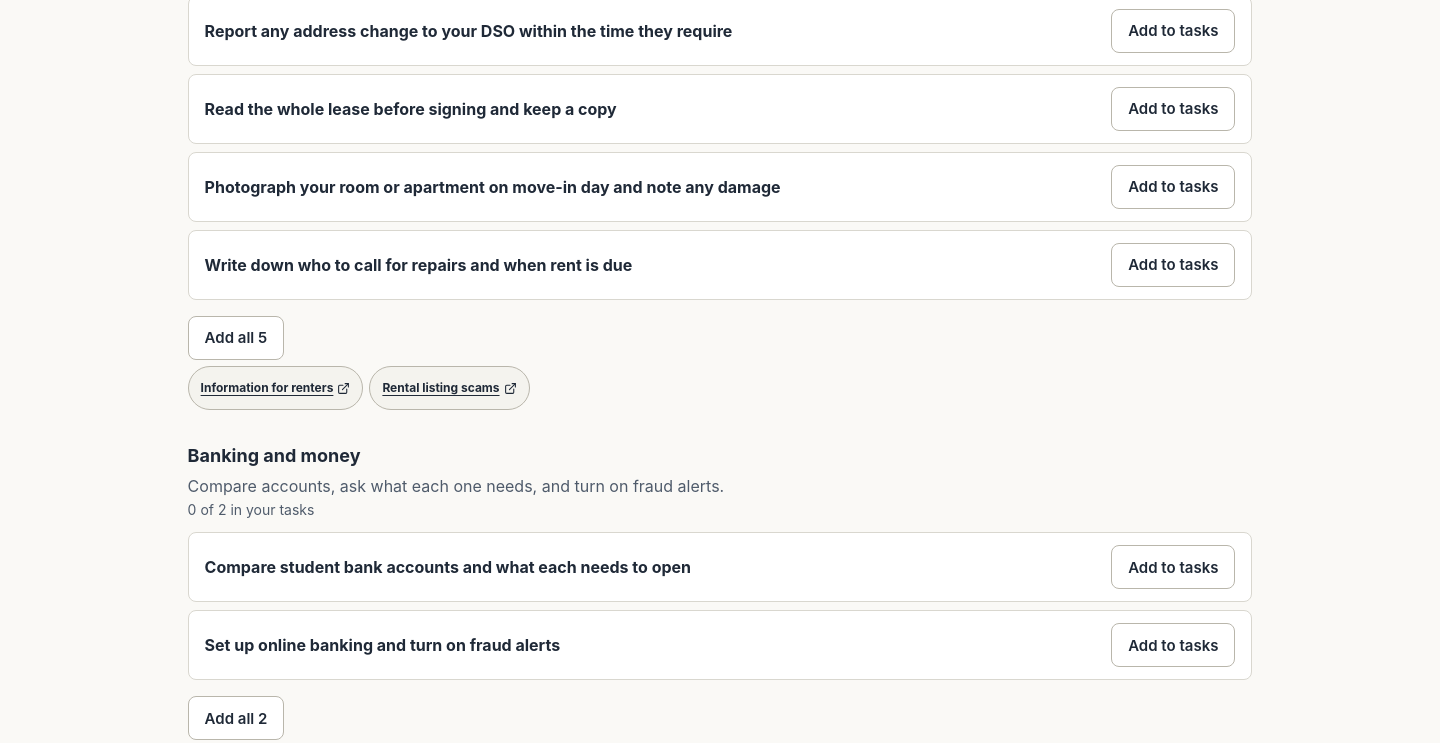
it: LifeHubPage › adds all open steps in a topic in one tap
The width and height of the screenshot is (1440, 743).
(page scrolled)
What coordinates should you click on to do the following:
click the button "Add all 5"
I would click on:
 (236, 338)
Its box is x1=188 y1=316 x2=284 y2=360.
(page scrolled)
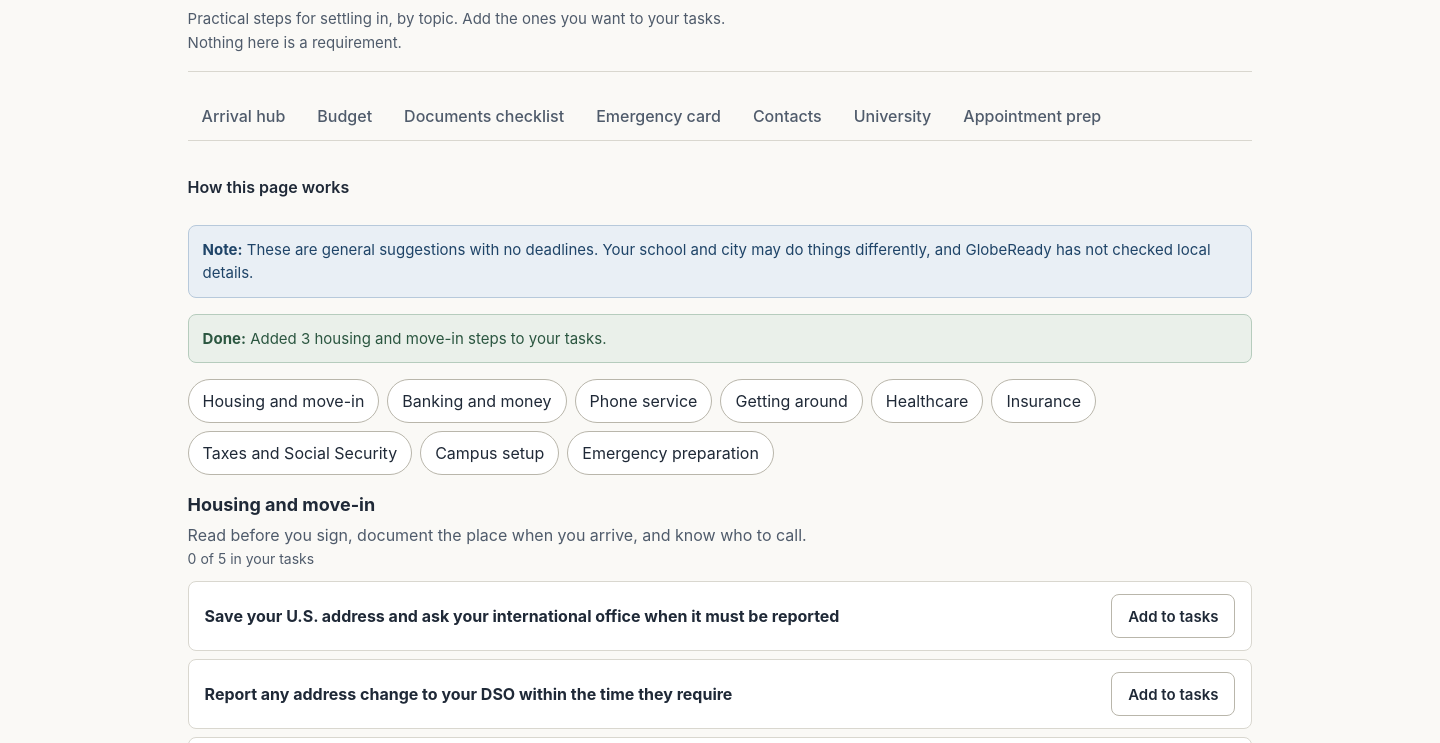
Expected: the text "Done: Added 3 housing and move-in steps to your tasks." is shown, x1=203 y1=327 x2=606 y2=350
